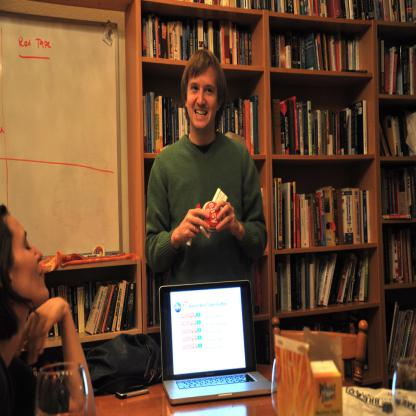book: (274, 176, 372, 251), (25, 280, 138, 338), (142, 11, 253, 65), (272, 93, 369, 154), (183, 0, 416, 22), (286, 252, 369, 312), (270, 27, 369, 72), (309, 317, 372, 379), (142, 89, 191, 154), (216, 94, 260, 154), (380, 36, 416, 95), (388, 300, 416, 375), (382, 226, 416, 286), (382, 162, 416, 219), (379, 108, 407, 157), (145, 268, 165, 329), (84, 284, 106, 334), (252, 258, 262, 316)
